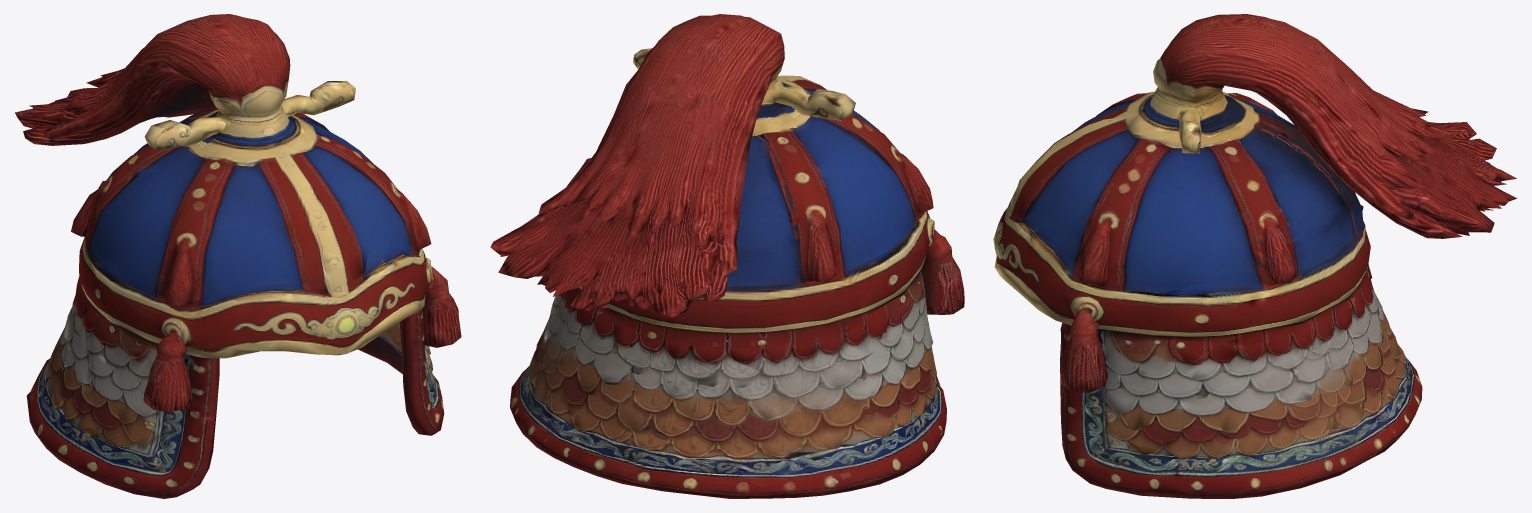
The model's file is guofengtoukui13.fbx.
3 renders of one model, left to right at view 1: azimuth 30°, elevation 25°; view 2: azimuth 150°, elevation 25°; view 3: azimuth 270°, elevation 25°, orthographic. The views are drawn at different scales.
Visible parts, largest first — view 1: node_6008f68d; view 2: node_6008f68d; view 3: node_6008f68d.
Boxes of the visible parts, x1,y1,x2,y2 form: node_6008f68d: (15, 14, 461, 498); node_6008f68d: (490, 14, 964, 498); node_6008f68d: (993, 14, 1517, 498).
Bounding box in the file's own units: 0.7928 × 0.8101 × 0.9741.
